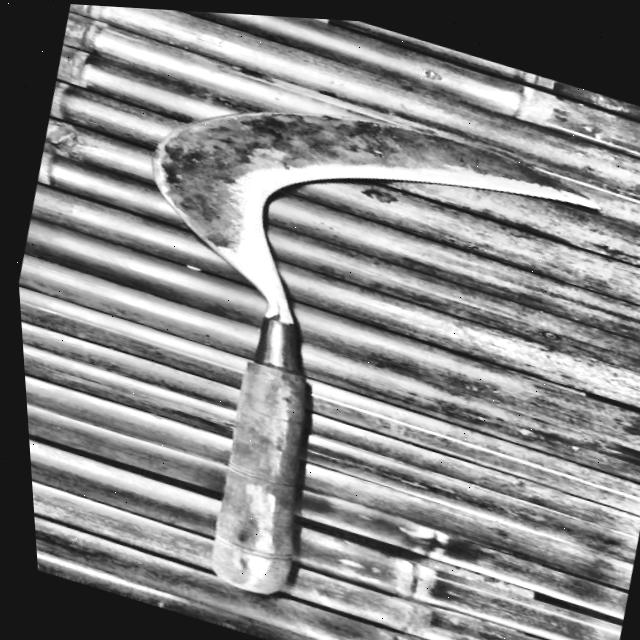celurit: (117, 96, 630, 607)
